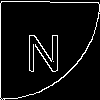N: (24, 24, 63, 72)
